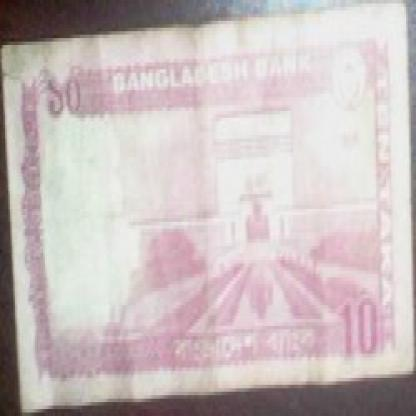Ten Taka: (338, 298, 384, 364), (45, 66, 88, 128)
